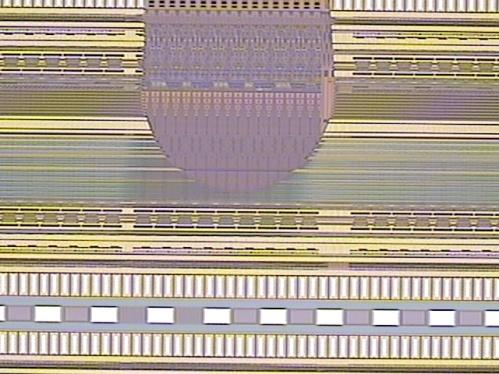COATING BAD: (135, 1, 343, 192)
